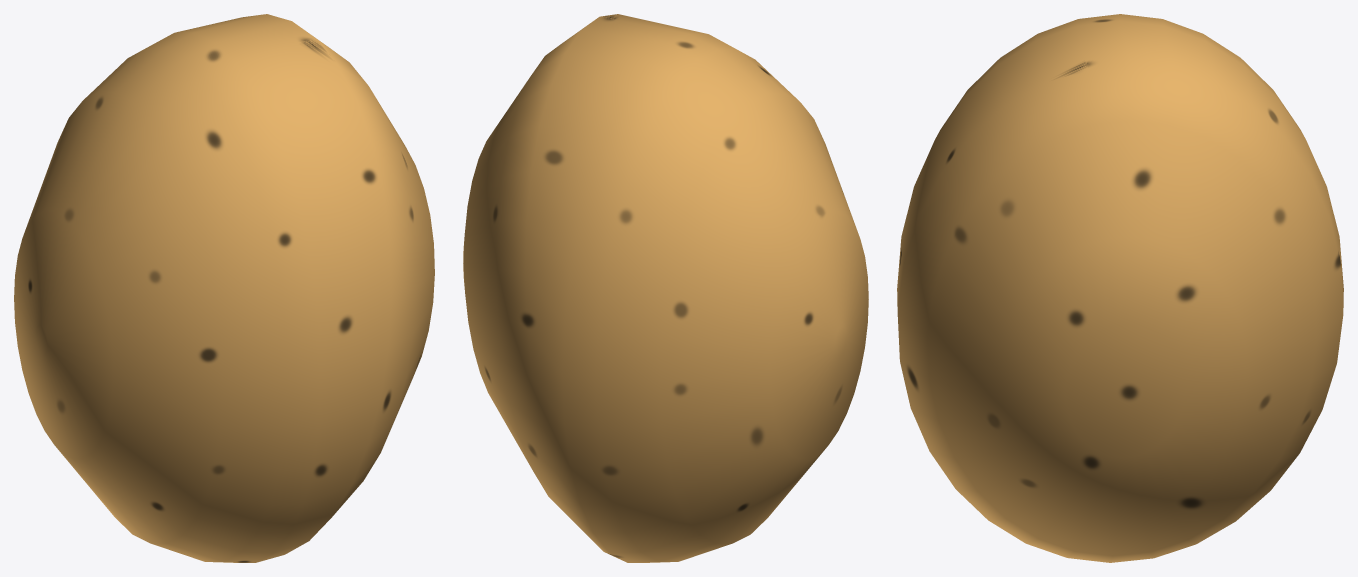
Rendered from potatoe.fbx.
3 views of the same model, side by side, from view 1: azimuth 30°, elevation 25°; view 2: azimuth 150°, elevation 25°; view 3: azimuth 270°, elevation 25° (orthographic). The views are drawn at different scales.
Parts seen in each view (by area): view 1: Circle; view 2: Circle; view 3: Circle.
Part boxes in pixels (box(x1,y1,x2,y2)): Circle: box(14, 14, 434, 562); Circle: box(463, 14, 868, 562); Circle: box(897, 14, 1343, 562).
Bounding box in the file's own units: 128 × 173 × 130.
Materials: 1 (1 with a texture image).
